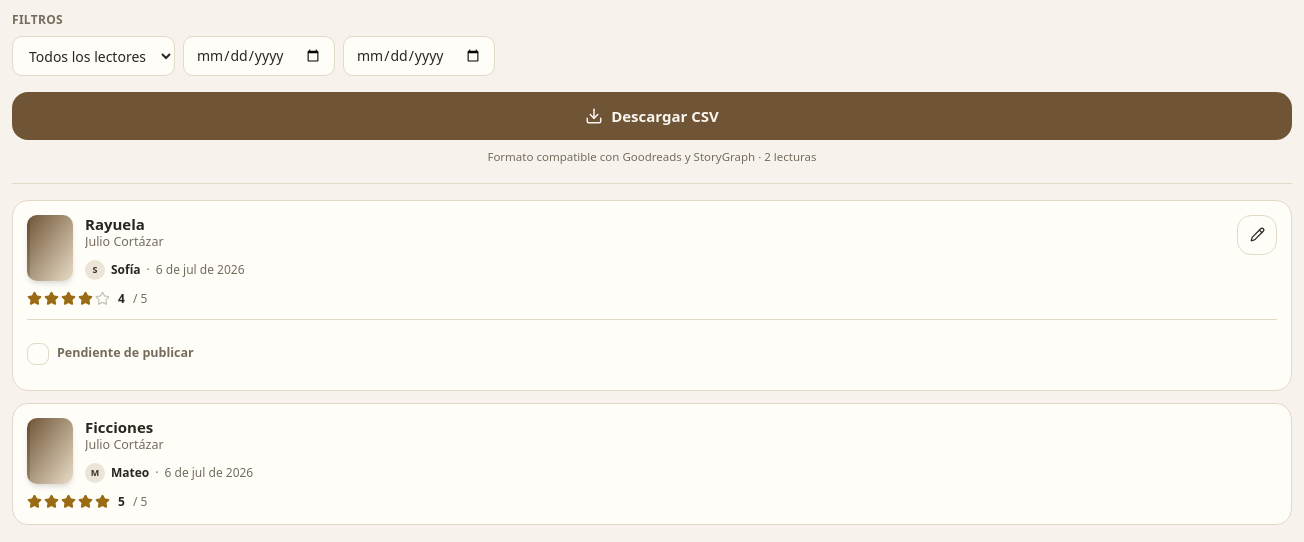
Scenario: ReadingExport › disables the download button when no events match the filters
expect the text "Rayuela" is shown: met, box [85,214,145,234]
In the date field named "Desde": (259, 56) [183,36,335,76], type "2099-01-01"
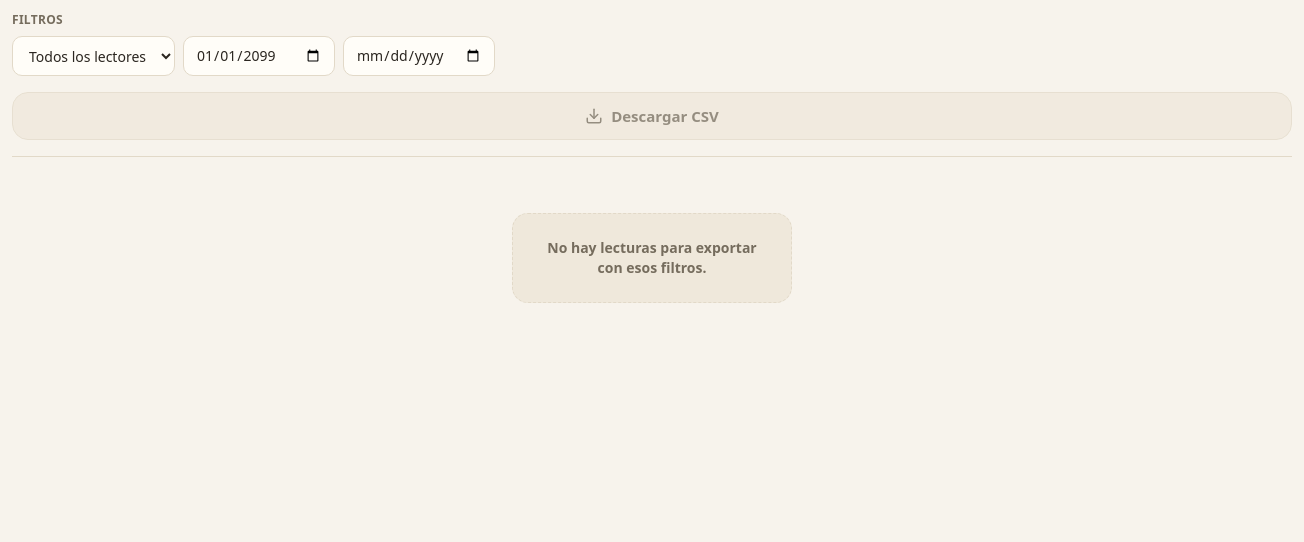
expect the text "No hay lecturas para exportar con esos filtros." is shown: met, box [533,238,771,278]
expect the button "Descargar CSV" is disabled: met, box [12,92,1292,140]
